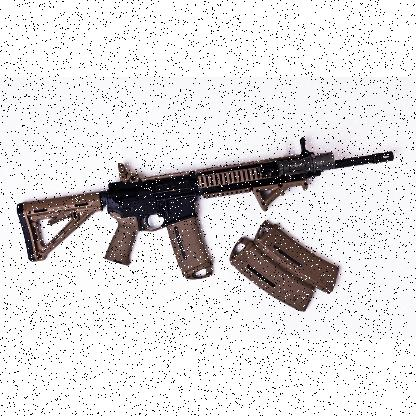gun: (15, 137, 392, 277)
